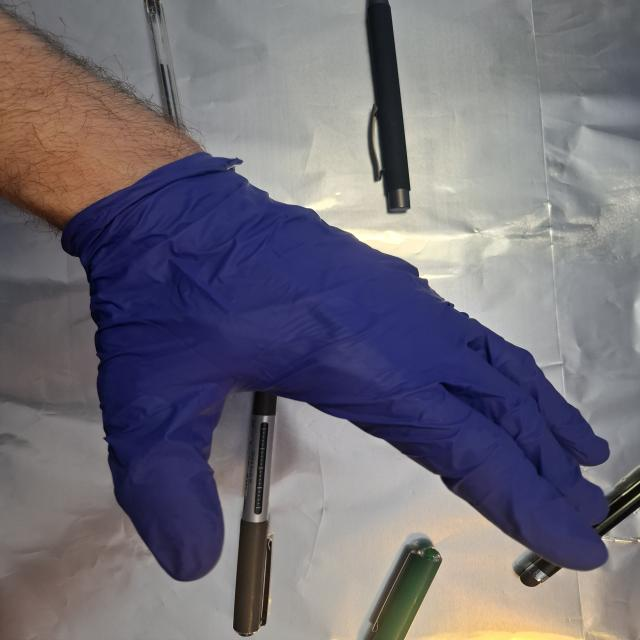glove_on: (81, 157, 616, 584)
